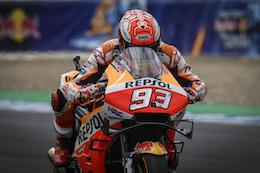helmet: (115, 6, 162, 43)
